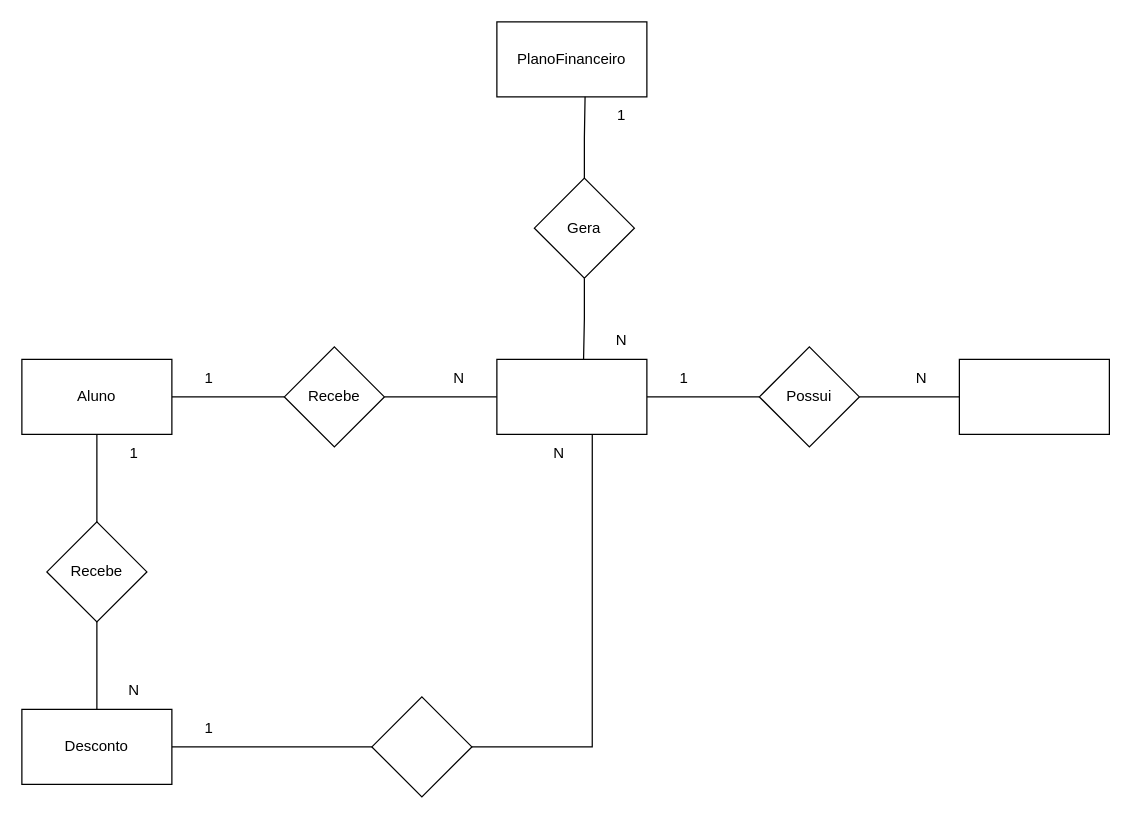
Some shapes in this 1131 by 819 pixel diagram are drawn without their labels. Each missing label, with the centre of its shape:
"Aplica" belongs at (x=421, y=746).
"Cobranca" belongs at (x=571, y=396).
"Pagamento" belongs at (x=1033, y=396).
